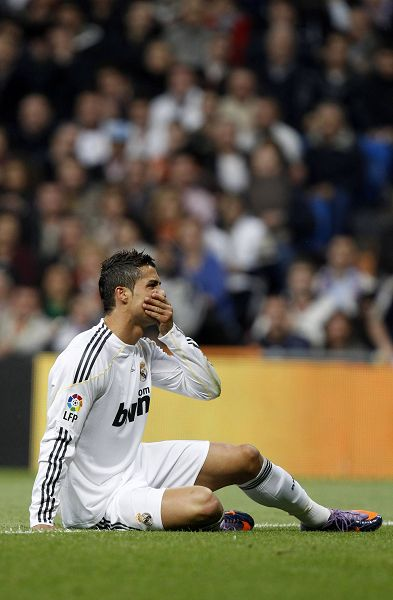face: (128, 261, 162, 327)
